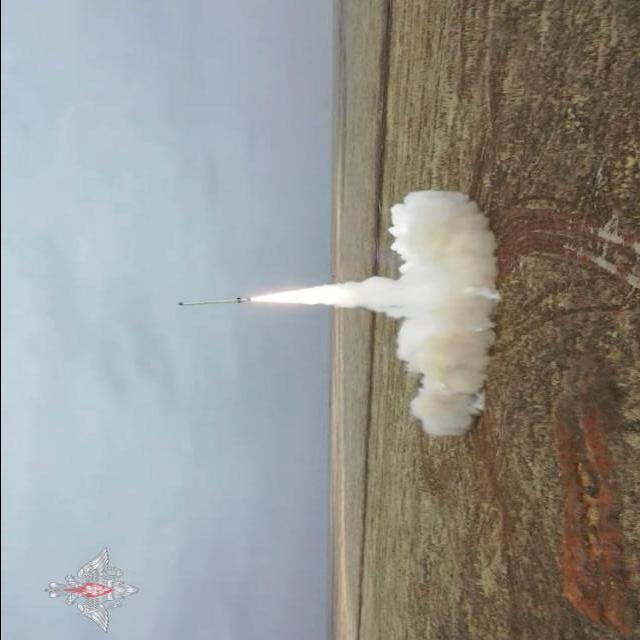Missile: (171, 294, 251, 312)
